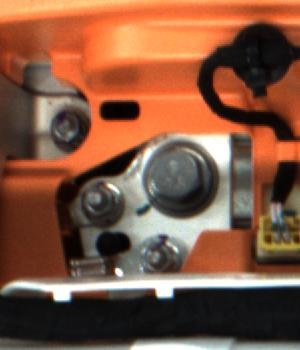nut_b: (144, 137, 225, 219)
